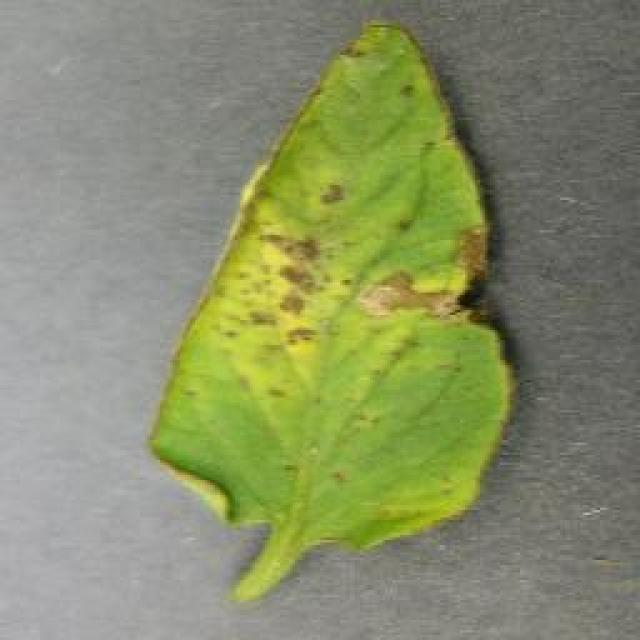bacterial spot: (144, 28, 522, 593)
